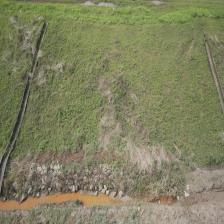slope drain: (0, 22, 49, 192), (204, 28, 224, 116)
